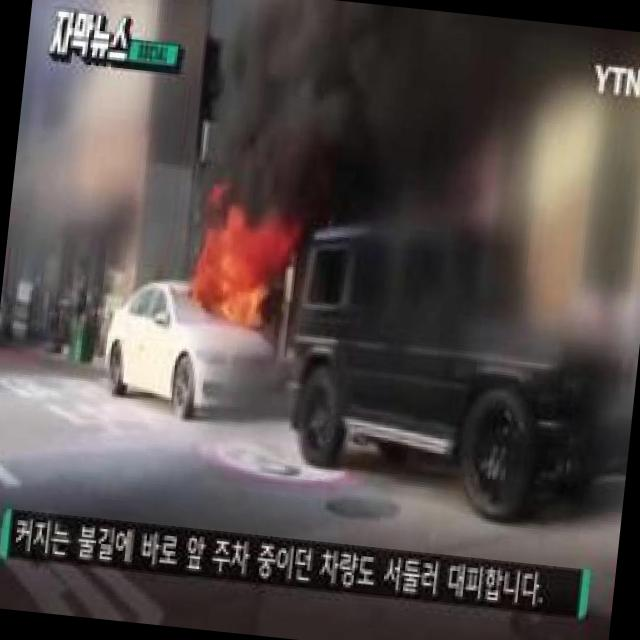Fire: (192, 226, 278, 326)
Smoke: (186, 0, 393, 234)
